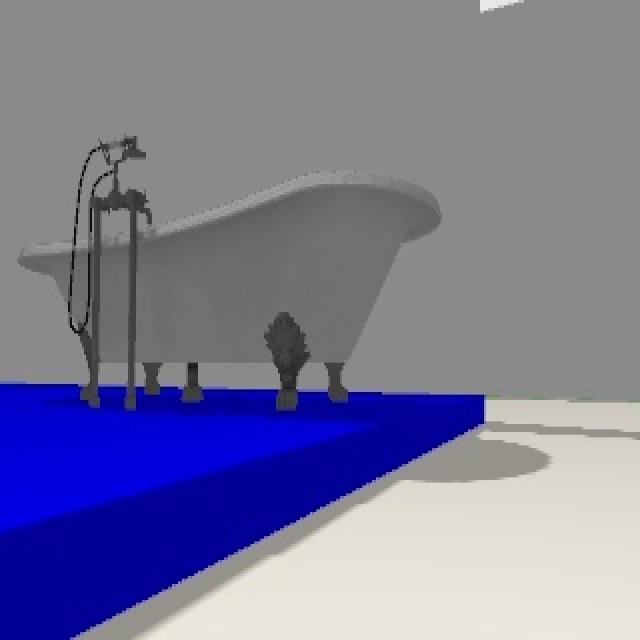bathtub: (19, 130, 441, 409)
